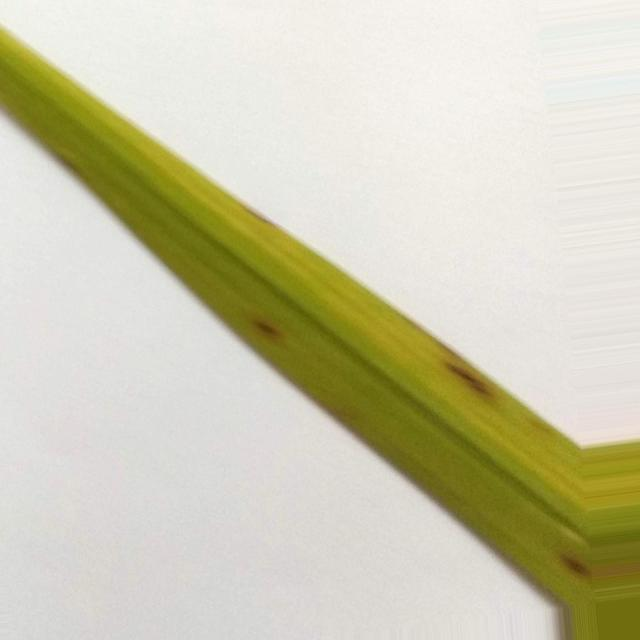Brown_Spot: (429, 340, 500, 405), (551, 544, 592, 602), (245, 310, 286, 359)
